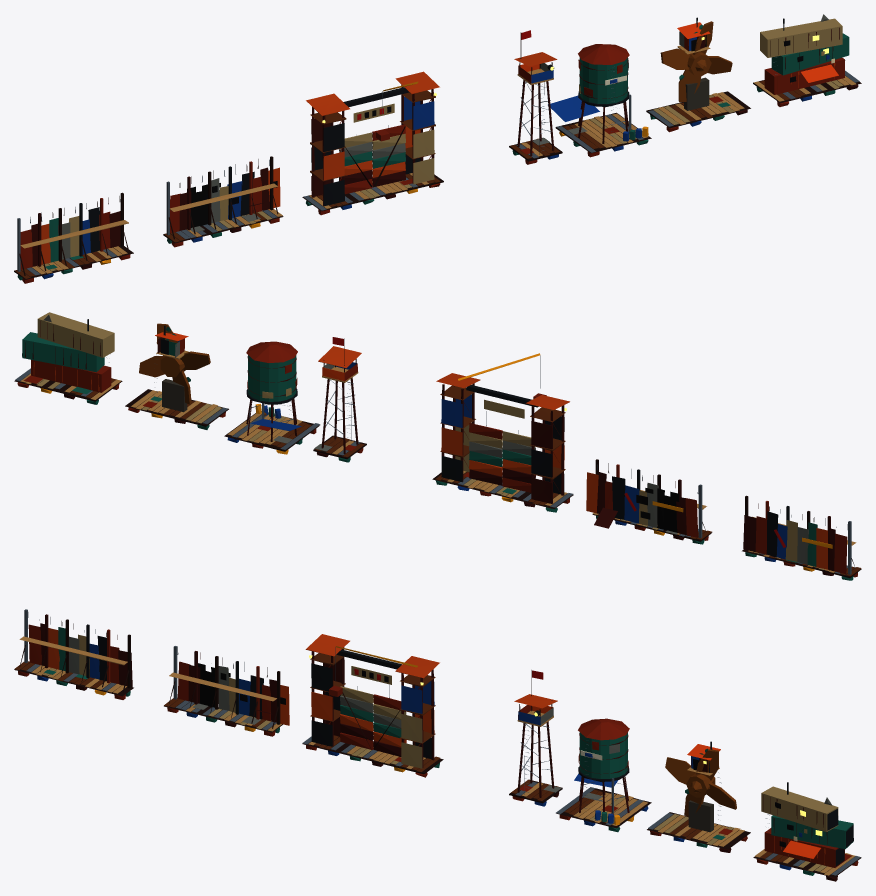
Rendered from tb_atoll_kit.three-web-toon.lod50.glb.
The picture shows the model from 3 angles, top to bottom: view 1: azimuth 30°, elevation 25°; view 2: azimuth 150°, elevation 25°; view 3: azimuth 330°, elevation 25°; orthographic projection.
Visible parts, largest first — view 1: atoll_gate_lod, atoll_wall_burnt_lod, container_home_lod, water_tank_lod, atoll_wall_lod, propeller_lod, watchtower_lod; view 2: atoll_gate_lod, container_home_lod, atoll_wall_burnt_lod, water_tank_lod, atoll_wall_lod, propeller_lod, watchtower_lod; view 3: atoll_gate_lod, container_home_lod, atoll_wall_burnt_lod, atoll_wall_lod, water_tank_lod, propeller_lod, watchtower_lod.
Part boxes in pixels (box(x1,y1,x2,y2)): atoll_gate_lod: box(302, 71, 443, 215); atoll_wall_burnt_lod: box(163, 156, 283, 247); container_home_lod: box(753, 14, 861, 106); water_tank_lod: box(548, 44, 651, 157); atoll_wall_lod: box(14, 192, 133, 283); propeller_lod: box(646, 17, 750, 132); watchtower_lod: box(509, 30, 562, 164); atoll_gate_lod: box(432, 353, 573, 512); container_home_lod: box(14, 312, 122, 404); atoll_wall_burnt_lod: box(586, 459, 712, 544); water_tank_lod: box(224, 341, 320, 454); atoll_wall_lod: box(742, 495, 861, 580); propeller_lod: box(125, 323, 228, 429); watchtower_lod: box(313, 337, 366, 462); atoll_gate_lod: box(302, 634, 443, 777); container_home_lod: box(753, 782, 861, 881); atoll_wall_burnt_lod: box(164, 646, 289, 736); atoll_wall_lod: box(14, 609, 133, 699); water_tank_lod: box(556, 718, 651, 832); propeller_lod: box(647, 741, 750, 852); watchtower_lod: box(509, 670, 562, 806).
Bounding box in the file's own units: 122 × 17.84 × 12.15.
